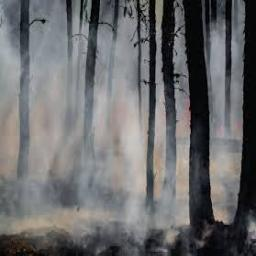Heavy smoke: (0, 0, 255, 253)
